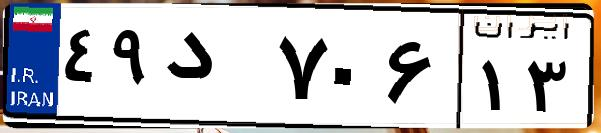0: (330, 28, 385, 110)
1: (475, 38, 525, 113)
3: (525, 38, 570, 115)
4: (57, 26, 110, 100)
6: (385, 28, 445, 110)
7: (270, 28, 330, 110)
9: (110, 28, 158, 98)
د: (158, 20, 270, 120)
